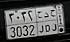0: (16, 16, 22, 37)
2: (28, 9, 35, 35)
3: (8, 12, 16, 38), (22, 10, 28, 37)
D: (45, 13, 50, 33)
J: (37, 10, 44, 33), (50, 9, 57, 32)
